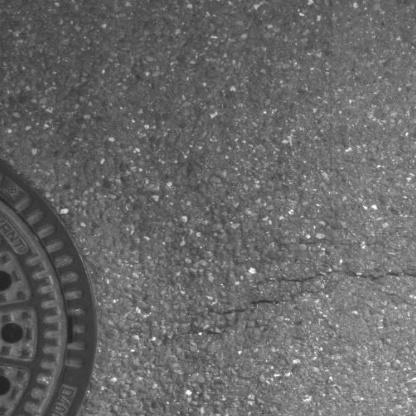Cracks: (166, 263, 416, 346)
